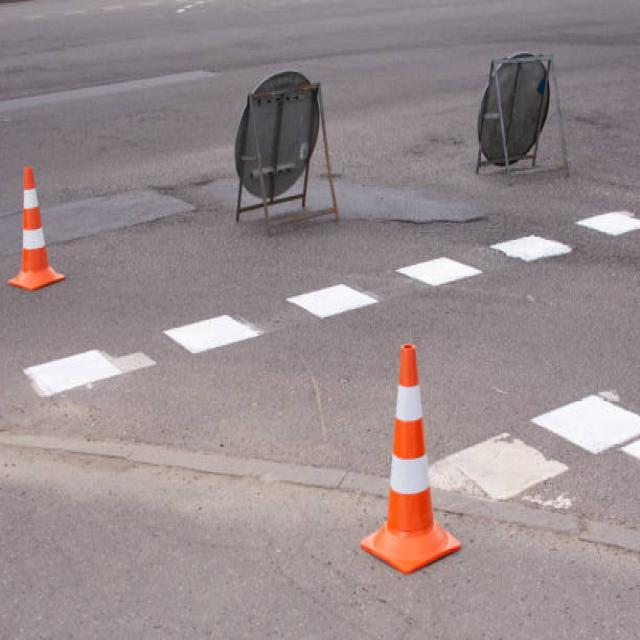Traffic Cone: (344, 298, 479, 593), (0, 122, 81, 320)
